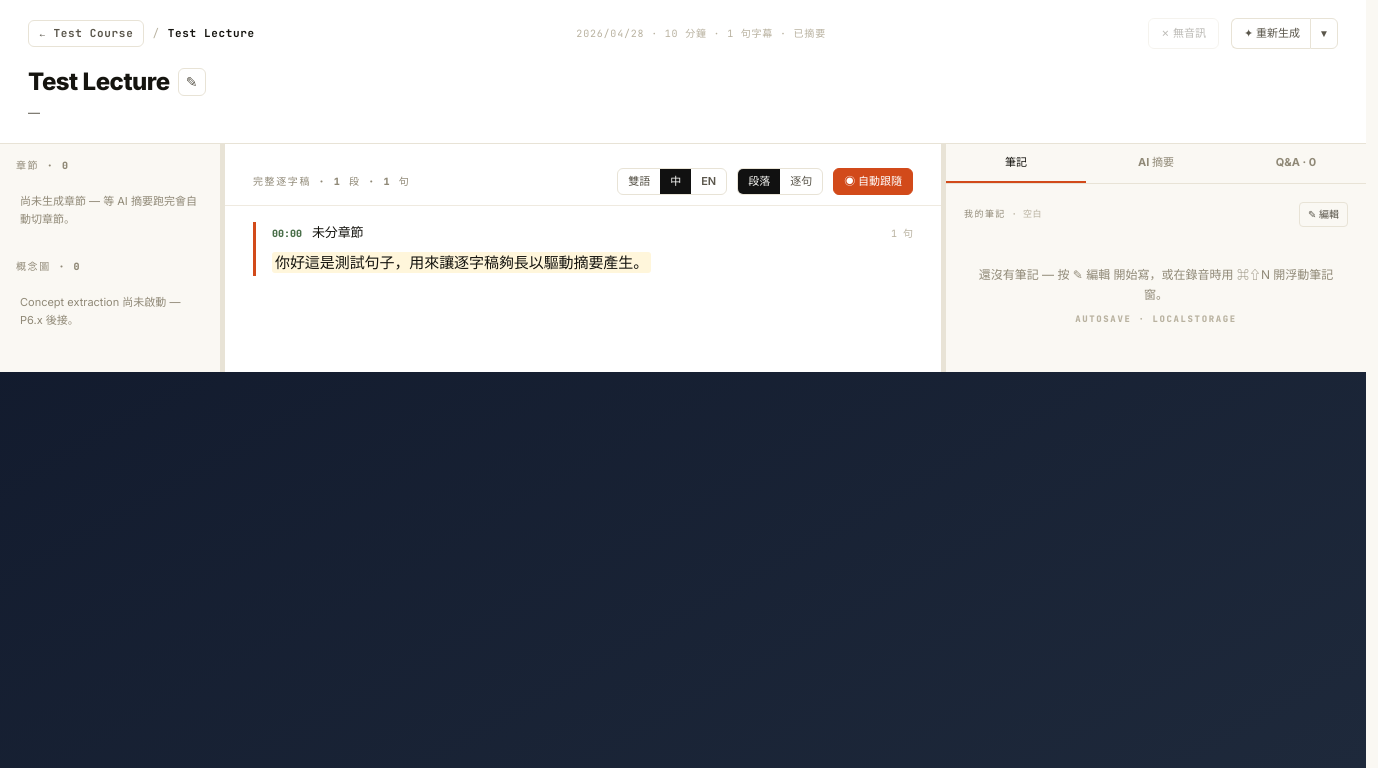
Test case: H18ReviewPage · cp75.29 markdown rendering in 摘要 tab › renders bullet list as <ul><li>
Click the button "AI 摘要" at (1156, 163), box [1086, 144, 1226, 183]
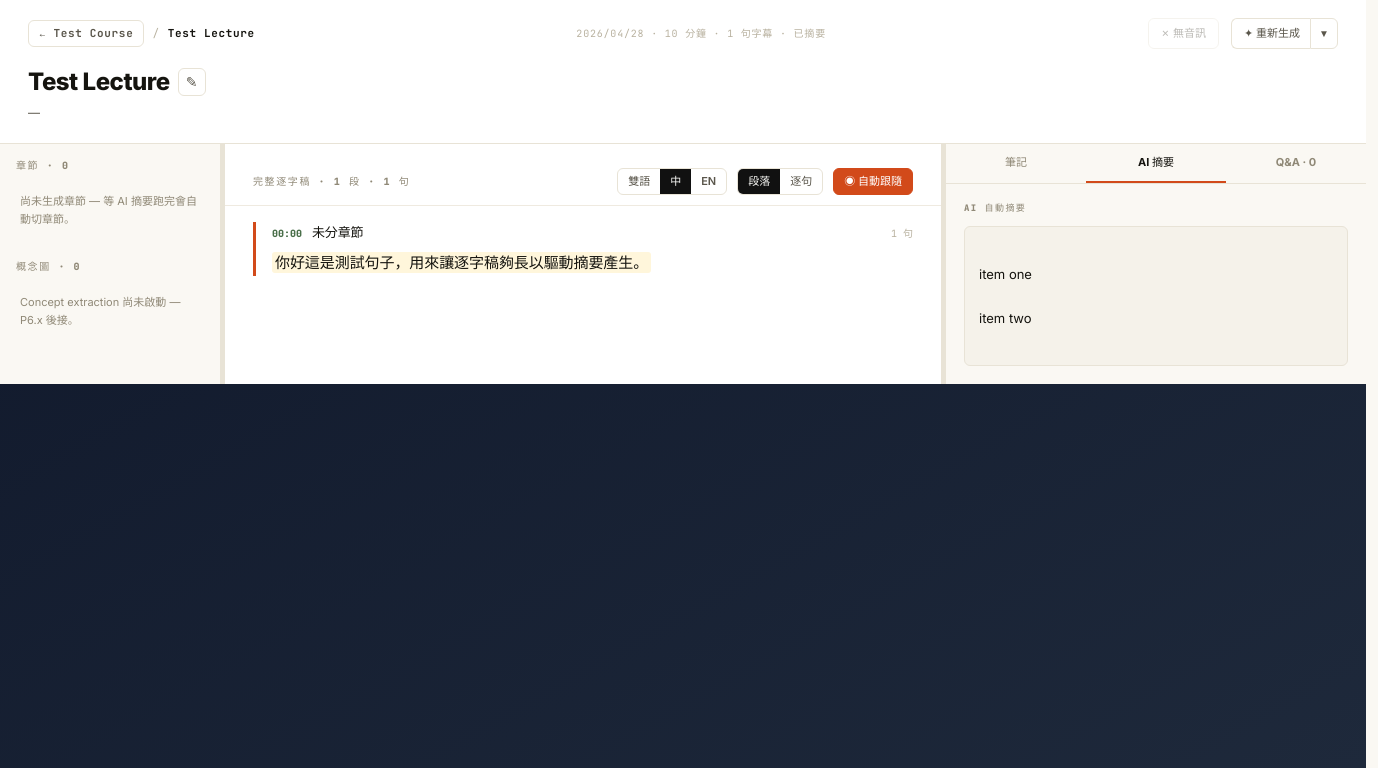
Expected: the number of list items is 2, [979, 266, 1032, 282]; [979, 310, 1032, 326]
Expected: the list item "item one" is shown, [979, 266, 1032, 282]
Expected: the list item "item two" is shown, [979, 310, 1032, 326]
